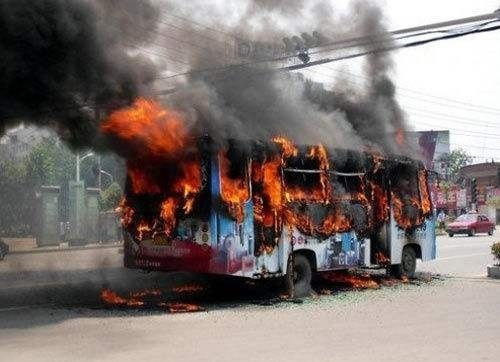fire: (98, 101, 432, 293)
